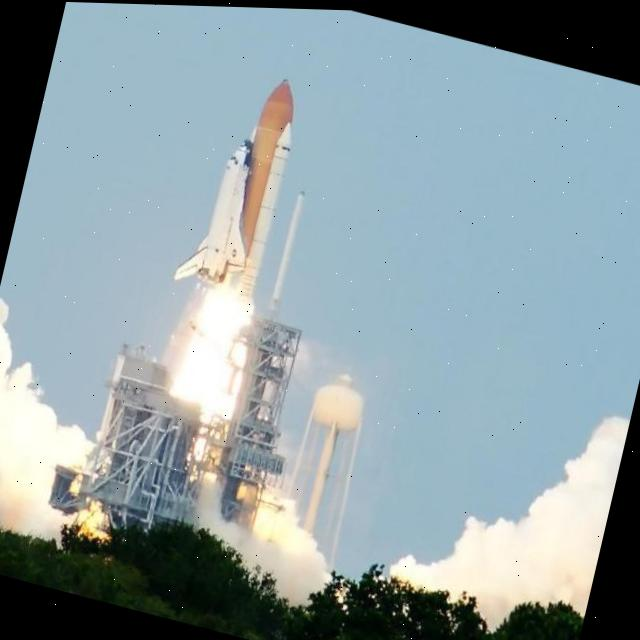missile: (166, 54, 314, 314)
